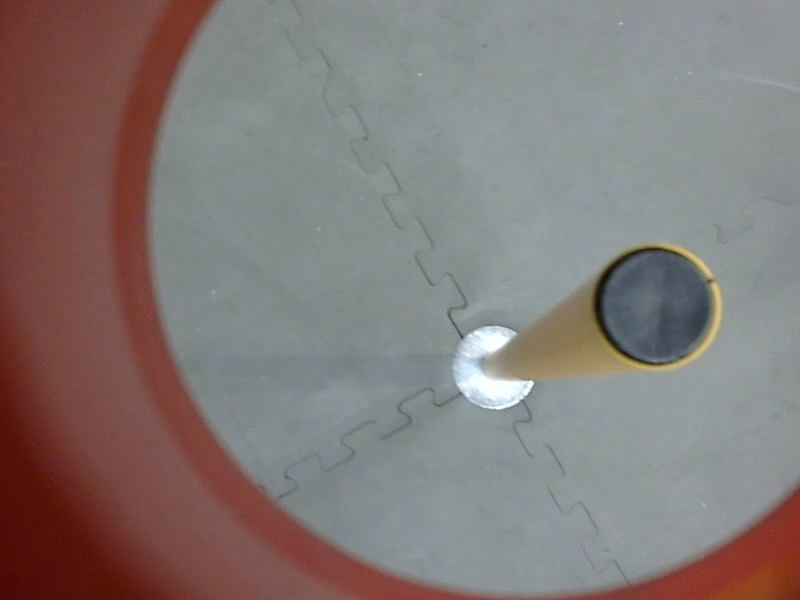tip: (582, 234, 735, 383)
